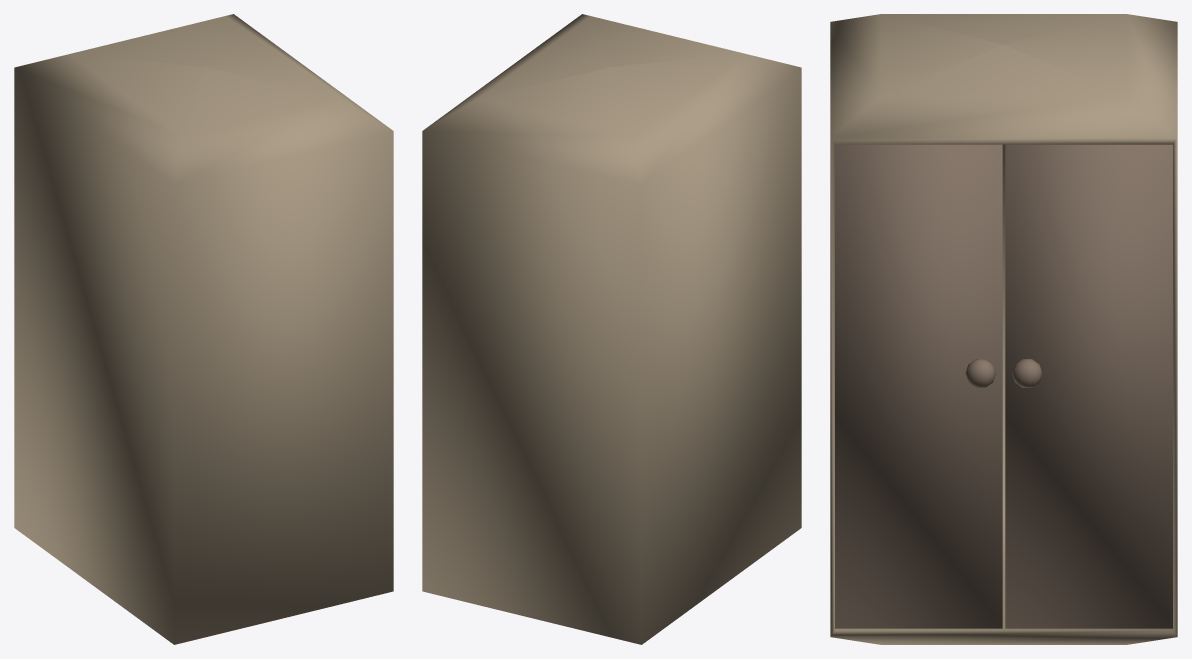
The model's file is BigDrawer.fbx.
3 renders of one model, left to right at view 1: azimuth 30°, elevation 25°; view 2: azimuth 150°, elevation 25°; view 3: azimuth 270°, elevation 25°, orthographic. The views are drawn at different scales.
Visible parts, largest first — view 1: Cube; view 2: Cube; view 3: Cube.001, Cube.002, Cube.
Part boxes in pixels (x1,y1,x2,y2): Cube: (14, 14, 393, 644); Cube: (422, 14, 801, 644); Cube.001: (835, 144, 1002, 628); Cube.002: (1005, 144, 1172, 628); Cube: (830, 14, 1177, 644).
Size of the model in its own units: 768 by 1620 by 895.
